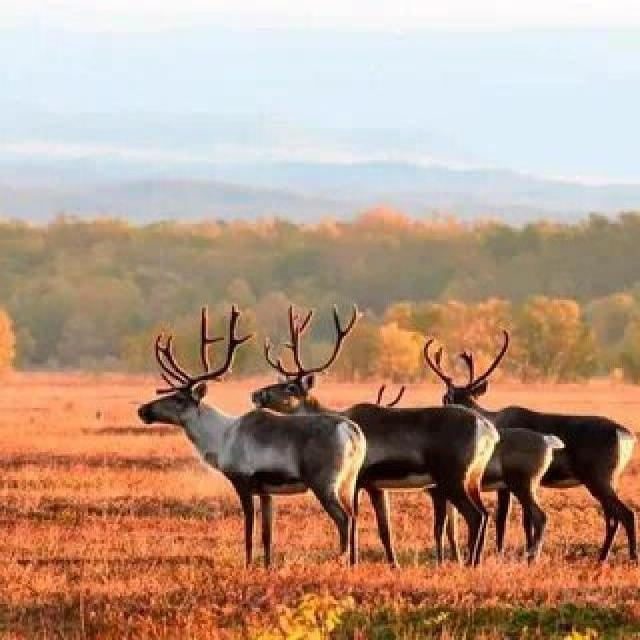deer: (132, 337, 362, 570), (424, 330, 640, 538), (258, 326, 472, 523), (364, 366, 532, 526)
